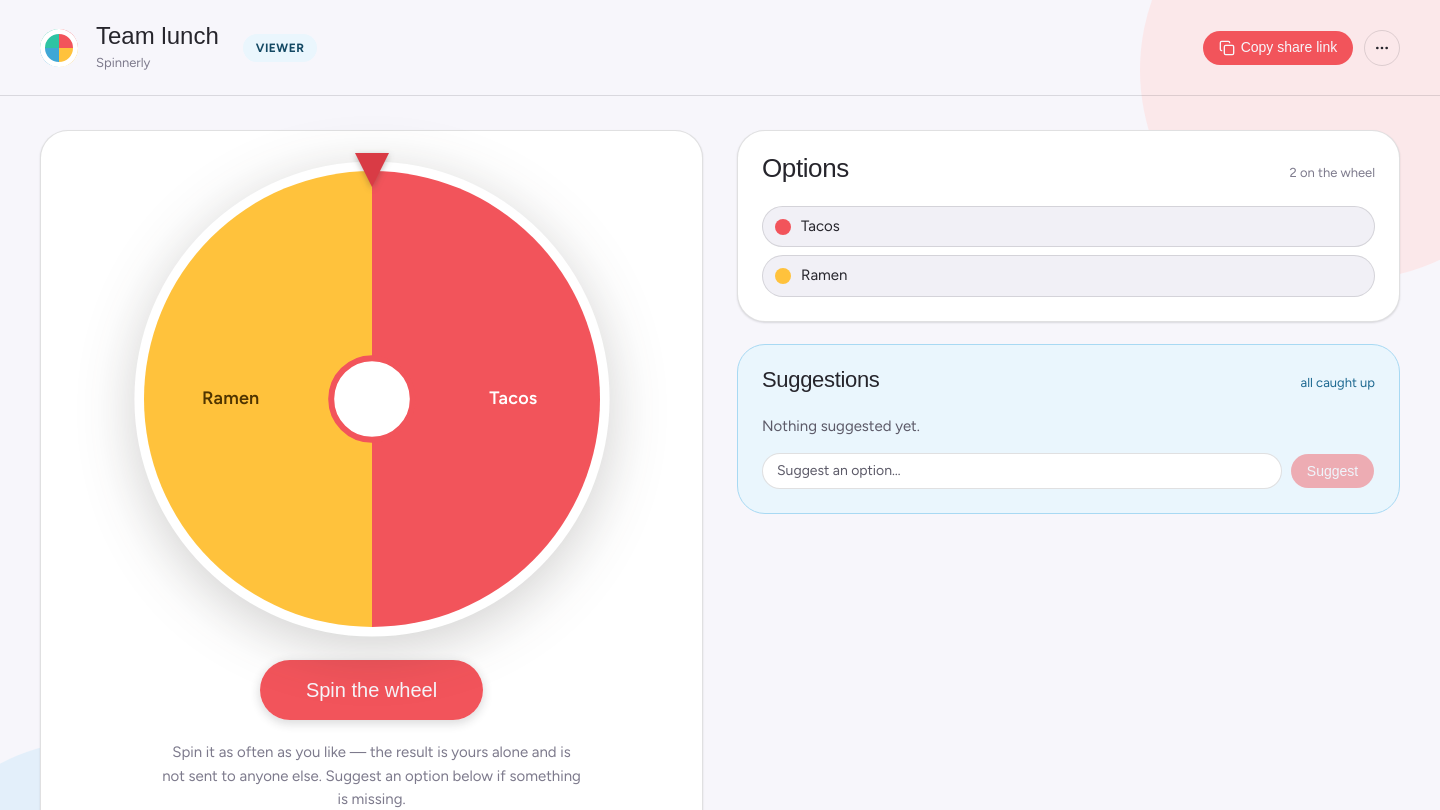
Test case: the suggestions queue › shows a participant their own suggestion at once
Expected: the header is shown, x1=0 y1=0 x2=1439 y2=96
Type "Sushi" into the field labelled "Suggest an option" at (1022, 471), box x1=762 y1=453 x2=1282 y2=489
Then press Enter
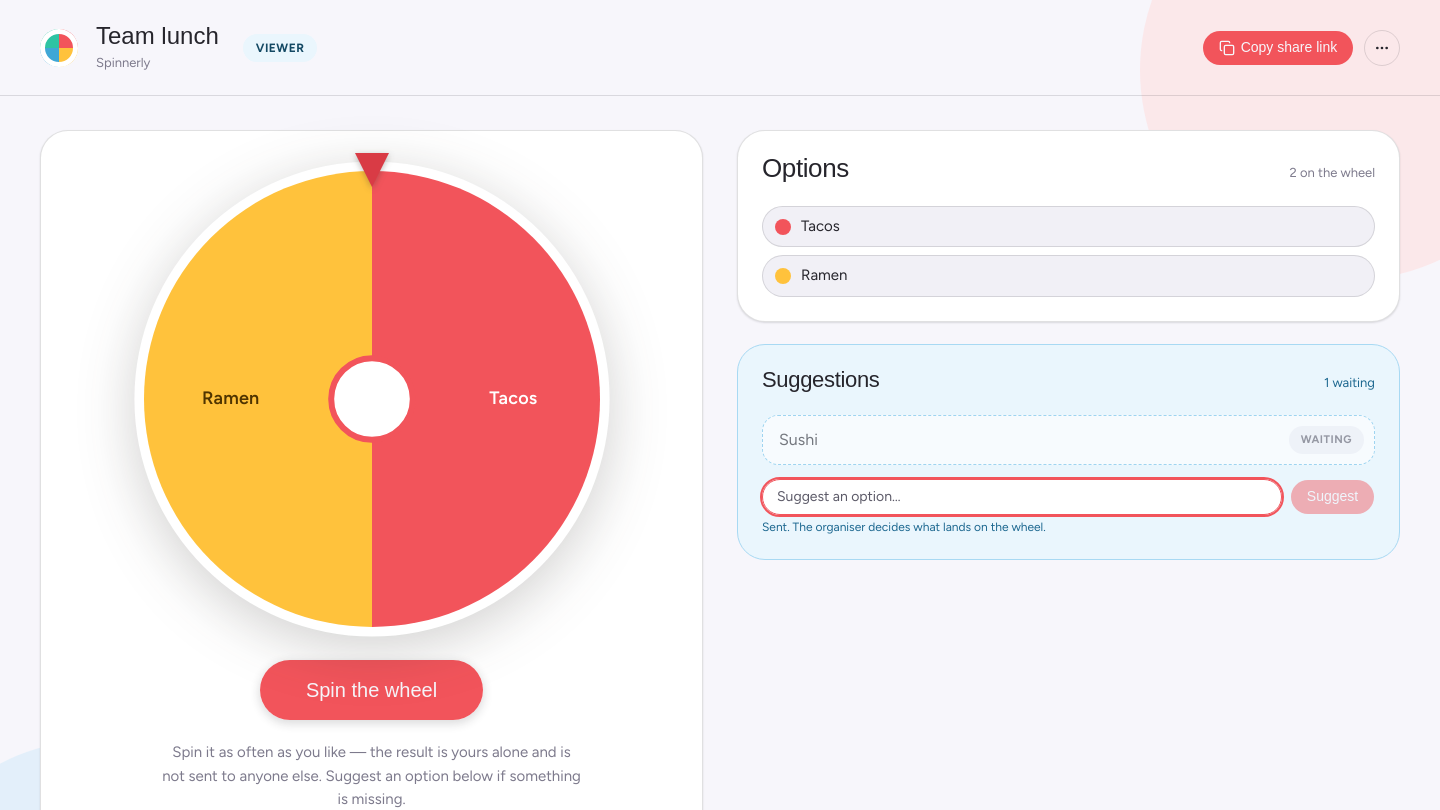
Expected: the text "Sushi" is shown, x1=779 y1=430 x2=818 y2=449
Expected: the text "Waiting" is shown, x1=1289 y1=426 x2=1364 y2=454
